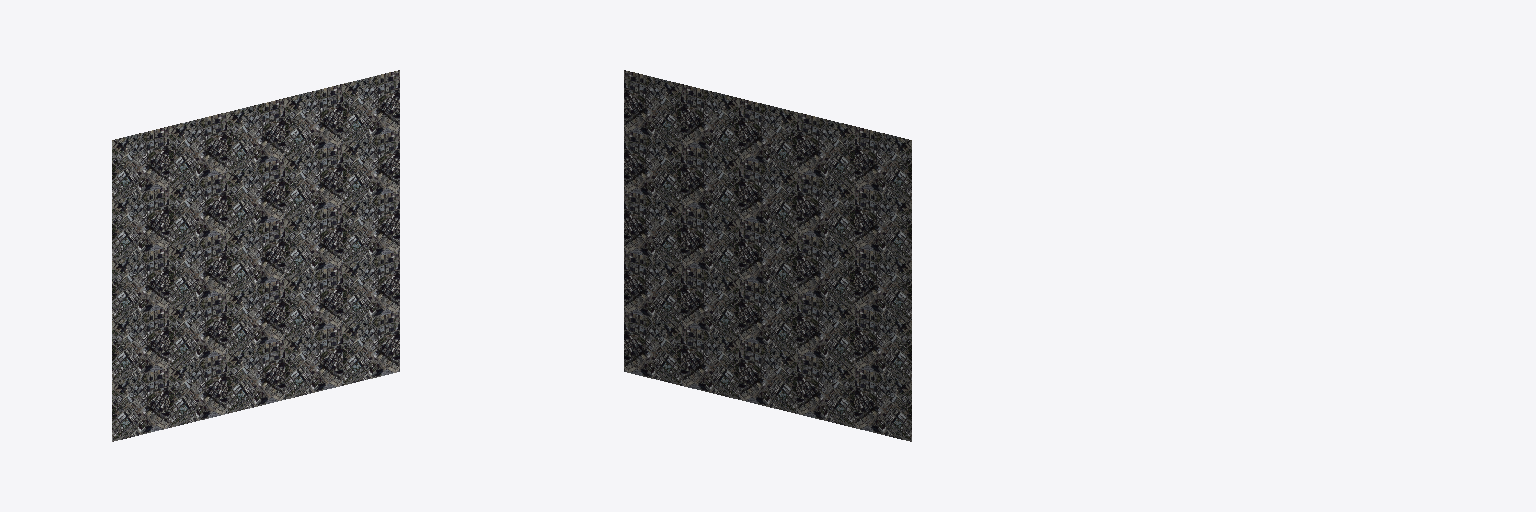
3 renders of one model, left to right at view 1: azimuth 30°, elevation 25°; view 2: azimuth 150°, elevation 25°; view 3: azimuth 270°, elevation 25°, orthographic.
Size of the model in its own units: 10 by 10 by 0.
Materials: 1 (1 with a texture image).